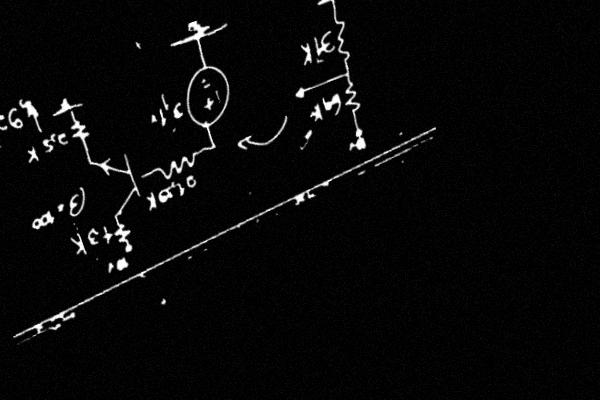ground: (164, 10, 235, 55), (48, 89, 90, 126), (311, 0, 352, 14)
resistor: (147, 144, 210, 186), (324, 7, 362, 72), (335, 75, 369, 122), (64, 110, 95, 153), (109, 214, 137, 249)
voltage: (170, 51, 246, 141)
